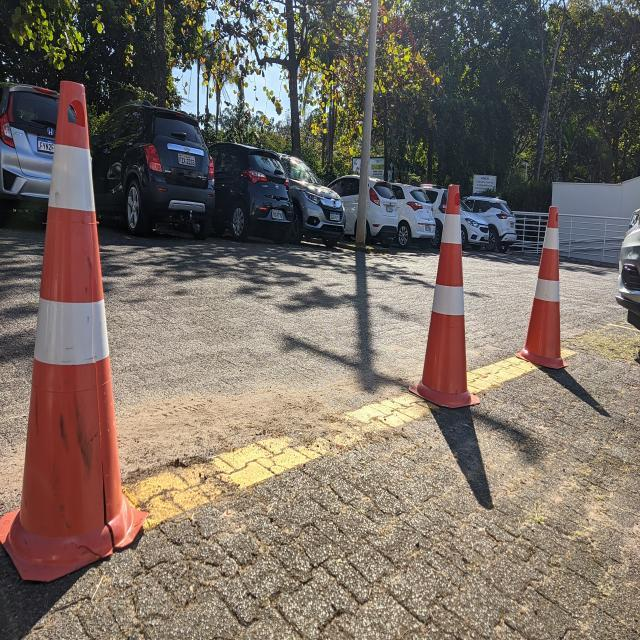Cone: (0, 72, 152, 587), (406, 180, 482, 411), (514, 202, 570, 374)
